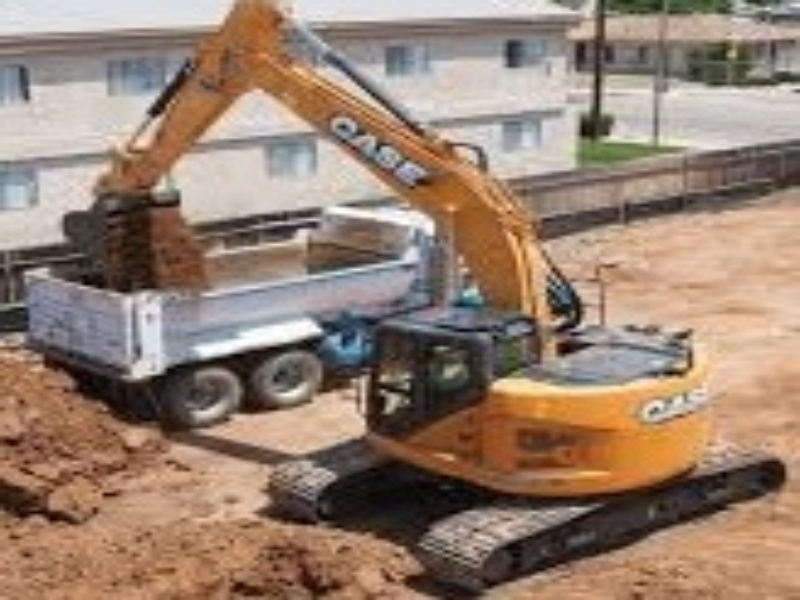wajueji: (271, 217, 794, 600)
